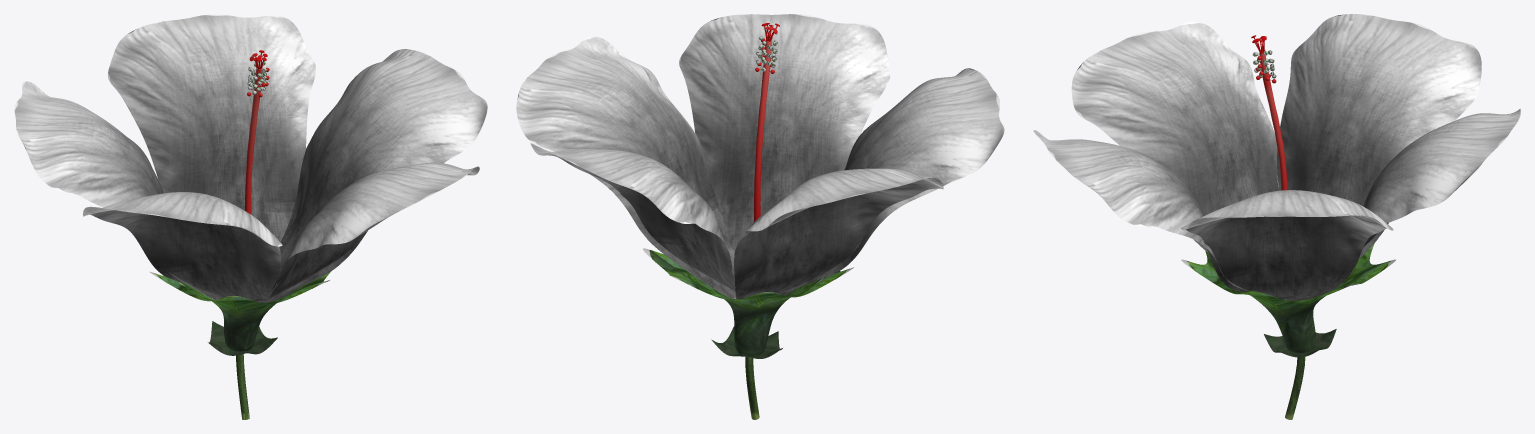
Rendered from hibiscus.glb.
The picture shows the model from 3 angles, left to right: view 1: azimuth 30°, elevation 25°; view 2: azimuth 150°, elevation 25°; view 3: azimuth 270°, elevation 25°; orthographic projection.
Visible parts, largest first — view 1: Hibiscus; view 2: Hibiscus; view 3: Hibiscus.
Part boxes in pixels (left/top/right/bottom): Hibiscus: left=14, top=14, right=487, bottom=419; Hibiscus: left=516, top=14, right=1004, bottom=419; Hibiscus: left=1033, top=14, right=1520, bottom=419.
Bounding box in the file's own units: 0.0541 × 0.0479 × 0.0553.
Materials: 6 (6 with a texture image).
